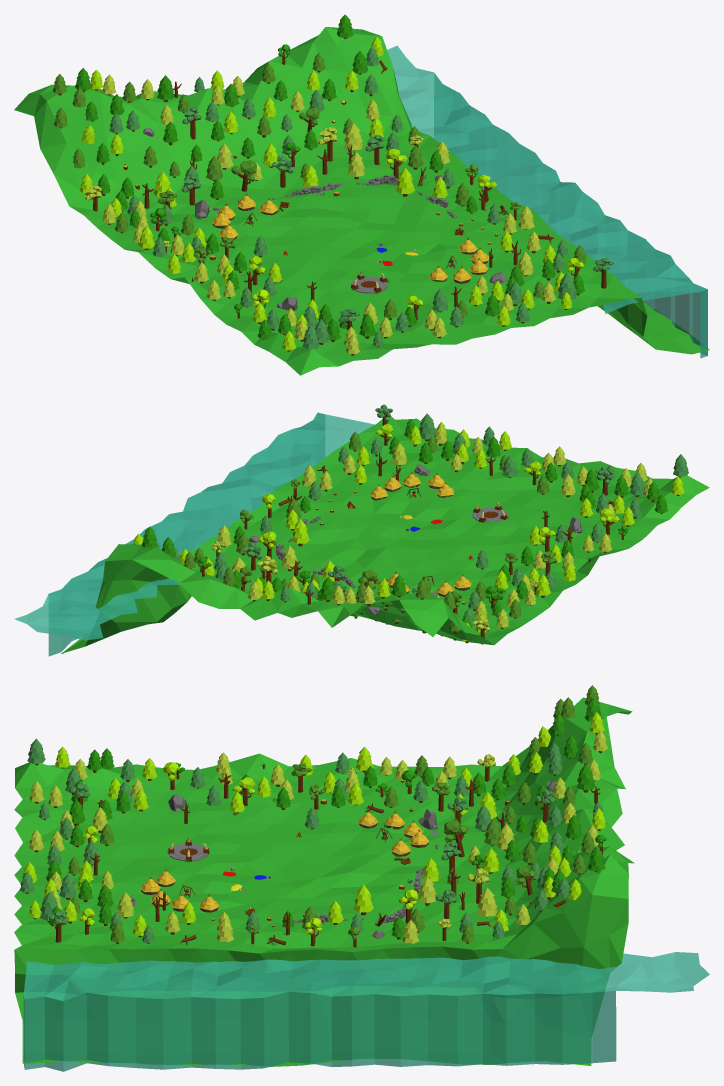
File: BattleSceneNoShop_0514.FBX
3 renders of one model, top to bottom at view 1: azimuth 30°, elevation 25°; view 2: azimuth 150°, elevation 25°; view 3: azimuth 270°, elevation 25°, orthographic. The views are drawn at different scales.
Visible parts, largest first — view 1: Object004, river, Cylinder018; view 2: Object004, river, Cylinder018; view 3: Object004, river, Cylinder018.
Part boxes in pixels (<box>): Object004: <box>14,27,709,375</box>; river: <box>387,45,707,358</box>; Cylinder018: <box>350,271,387,293</box>; Object004: <box>61,416,709,653</box>; river: <box>14,412,374,656</box>; Cylinder018: <box>472,502,508,522</box>; Object004: <box>14,697,634,1066</box>; river: <box>23,952,709,1071</box>; Cylinder018: <box>168,837,209,861</box>.
Size of the model in its own units: 220 by 89.75 by 296.
